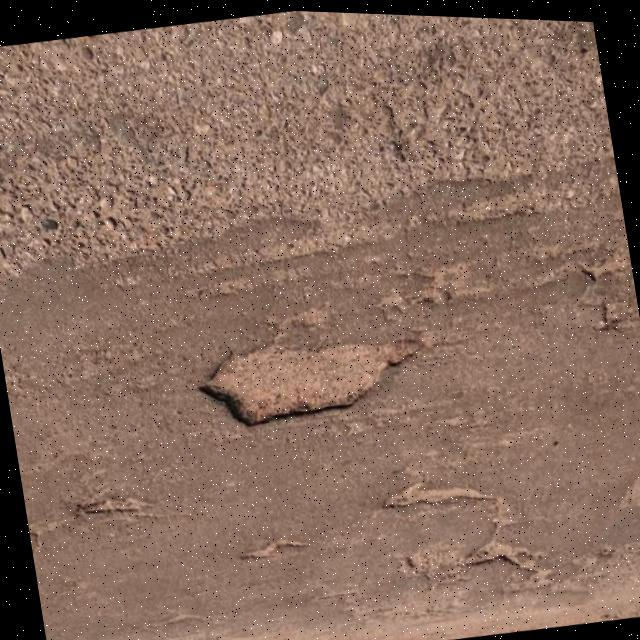Pothole: (190, 318, 430, 444), (378, 475, 502, 516), (460, 528, 550, 584)
